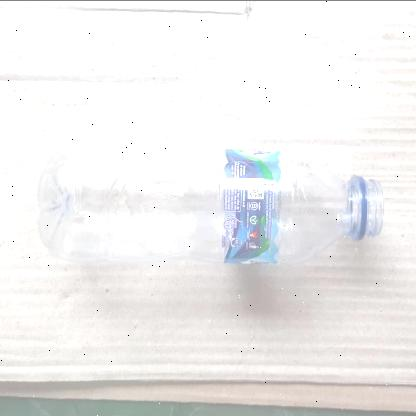Plastic Bottle: (0, 101, 408, 303)
